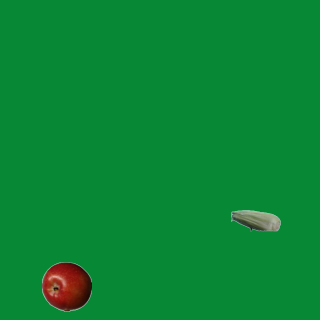Apple Braeburn: (41, 261, 91, 311)
Corn Husk: (230, 195, 280, 245)
